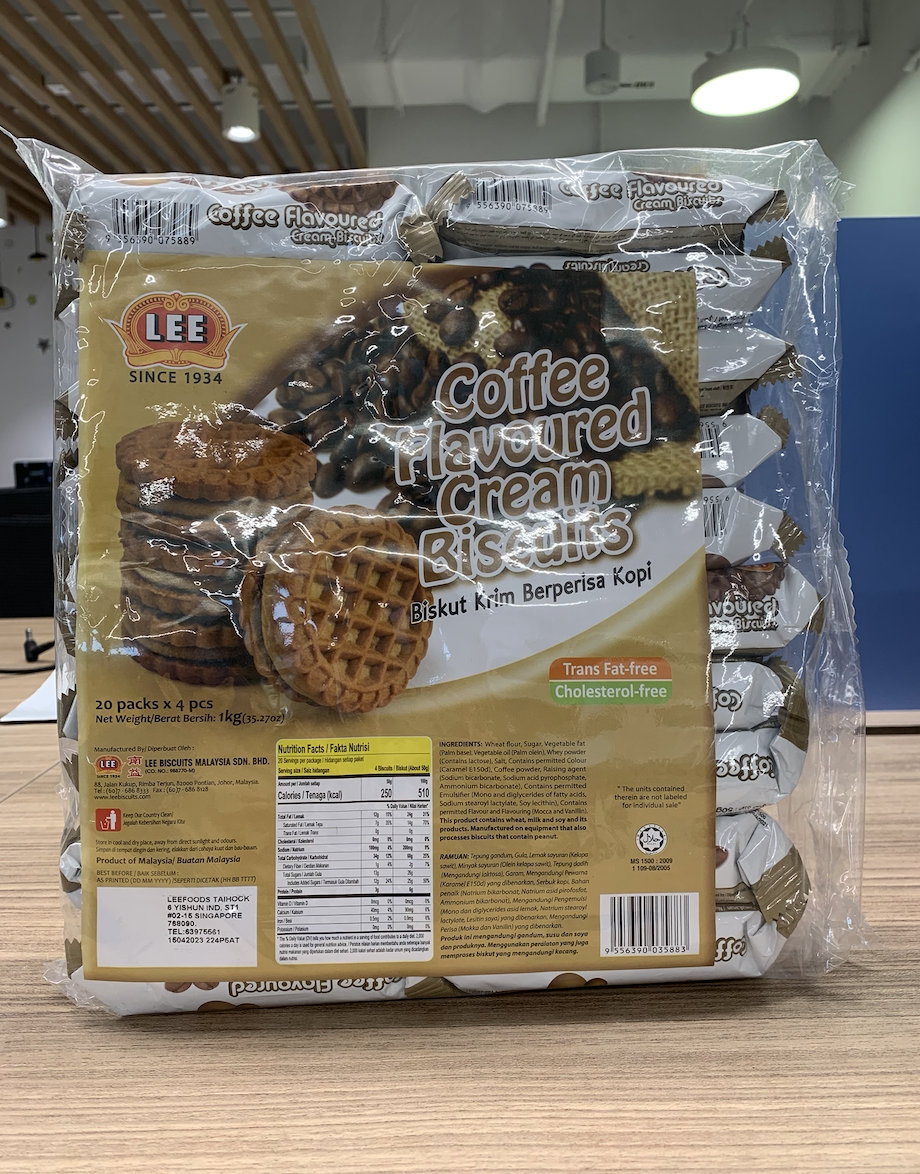cookies_1500g: (79, 177, 762, 977)
